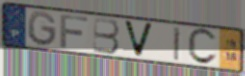B: (92, 17, 121, 56)
C: (187, 27, 219, 67)
F: (59, 13, 90, 50)
G: (26, 10, 58, 48)
I: (173, 25, 183, 62)
V: (122, 19, 156, 59)
